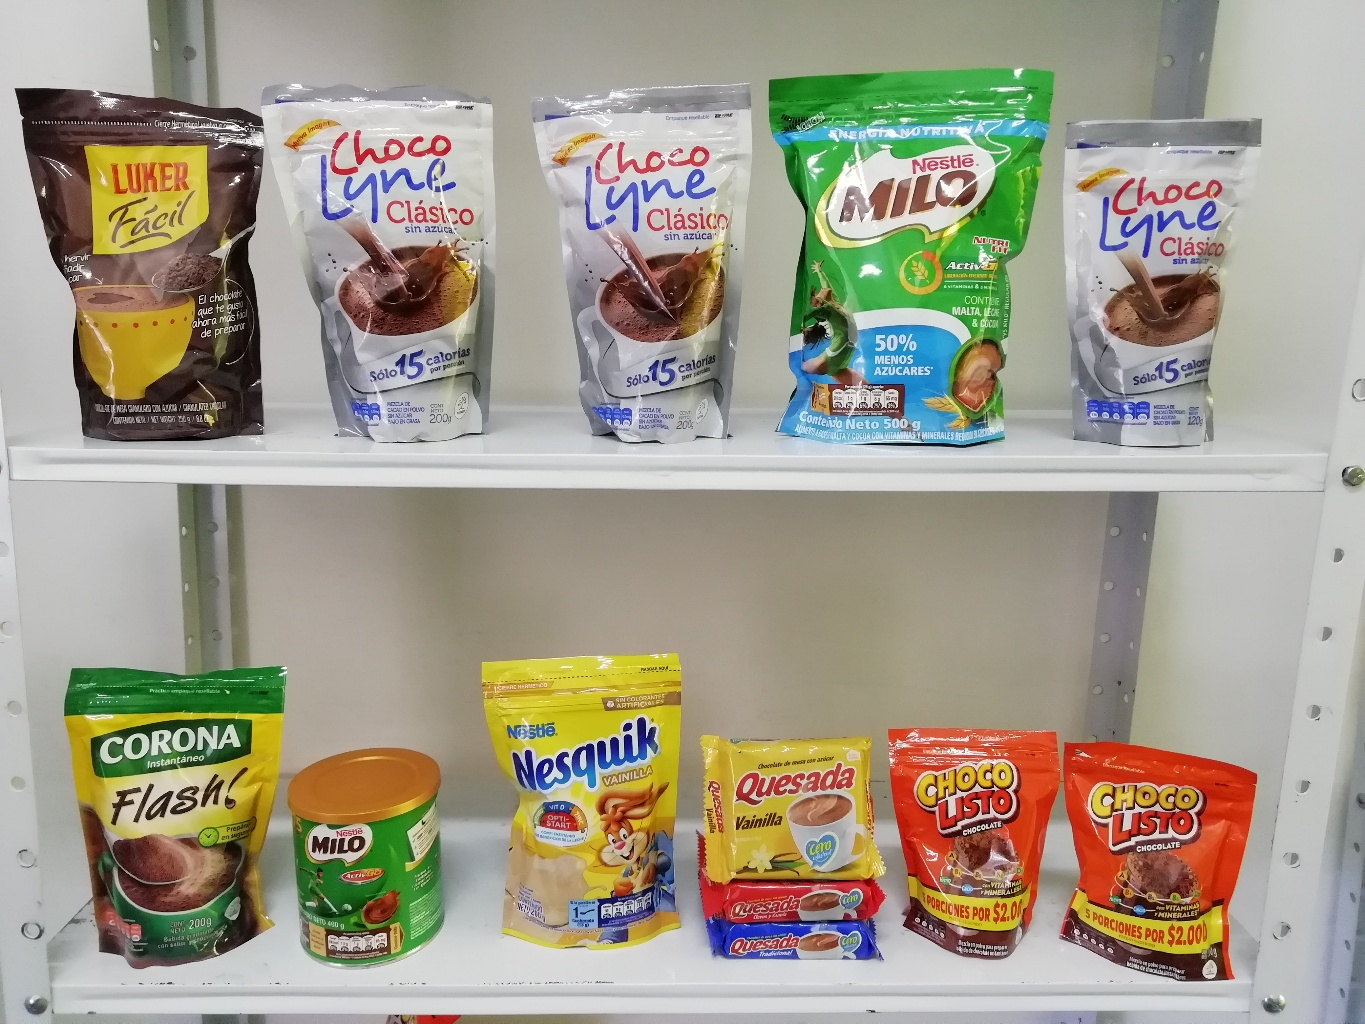COL0170203LAT40000: (283, 748, 477, 979)
COL0170306DYP20000: (477, 643, 697, 957)
